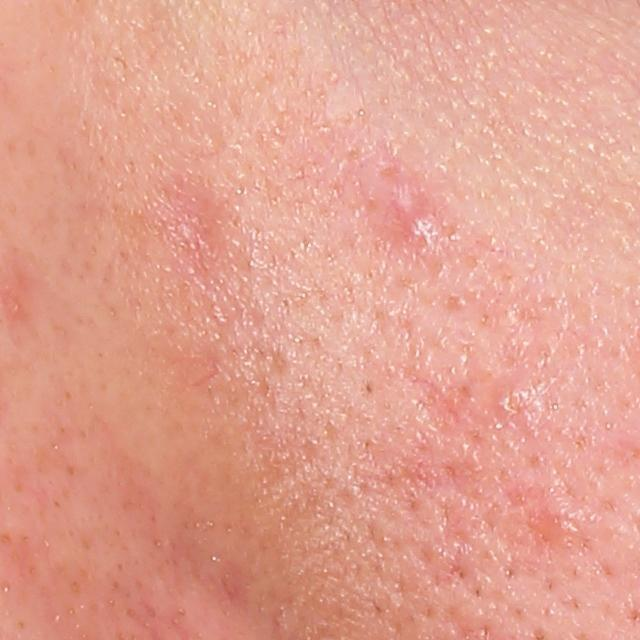papule: (154, 182, 226, 264), (496, 363, 563, 429), (531, 492, 580, 542), (400, 207, 439, 243)
